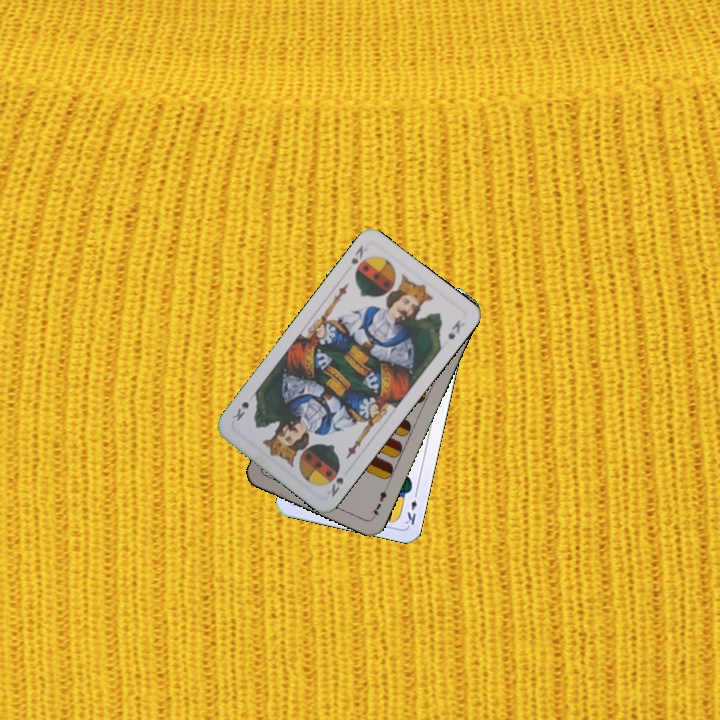E7: (367, 482, 390, 521)
EK: (401, 487, 420, 528)
SK: (347, 241, 370, 267), (327, 473, 346, 500)
